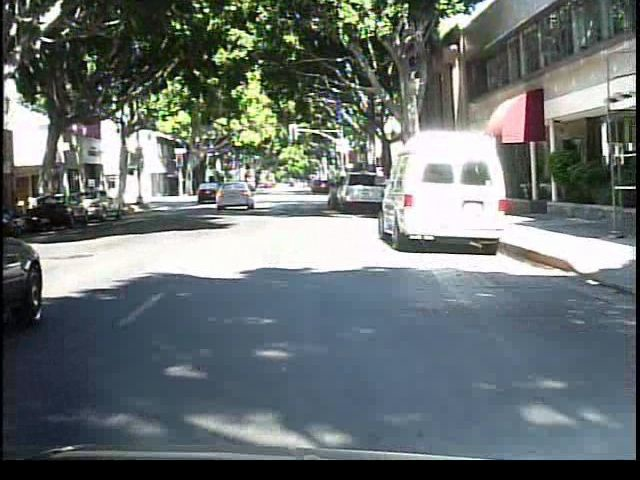person: (235, 174, 256, 208)
